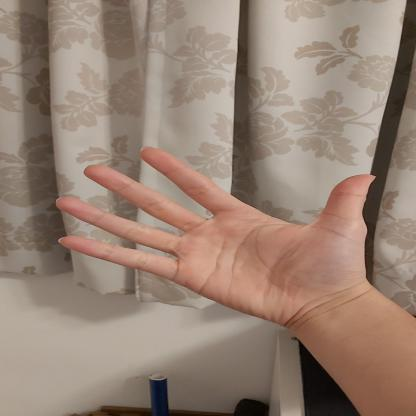bare_hand: (42, 138, 386, 336)
